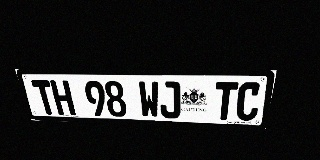8: (103, 81, 127, 117)
9: (83, 80, 108, 116)
C: (235, 82, 262, 121)
H: (49, 80, 76, 115)
J: (159, 81, 180, 119)
T: (213, 82, 238, 120), (31, 80, 58, 115)
W: (138, 81, 160, 118)
